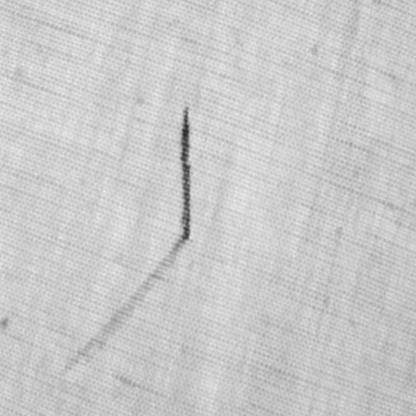oil spot: (56, 236, 190, 377), (178, 104, 192, 240)
